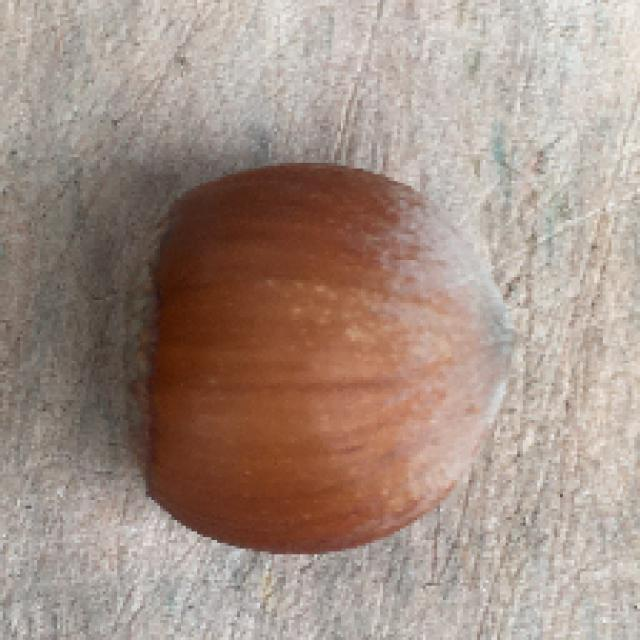qualityHazelnut: (117, 160, 522, 552)
